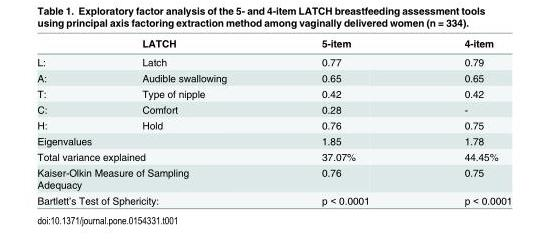table: (36, 36, 511, 205)
table column: (94, 36, 273, 205), (273, 36, 416, 205), (416, 36, 511, 205), (36, 36, 94, 205)
table column header: (36, 36, 511, 52)
table row: (36, 164, 511, 192), (36, 52, 511, 69), (36, 36, 511, 52), (36, 69, 511, 85), (36, 85, 511, 101), (36, 101, 511, 117), (36, 132, 511, 148), (36, 148, 511, 164), (36, 117, 511, 132), (36, 192, 511, 205)
table spanning cell: (36, 164, 273, 192), (36, 132, 273, 148), (36, 148, 273, 164), (36, 192, 273, 205)
